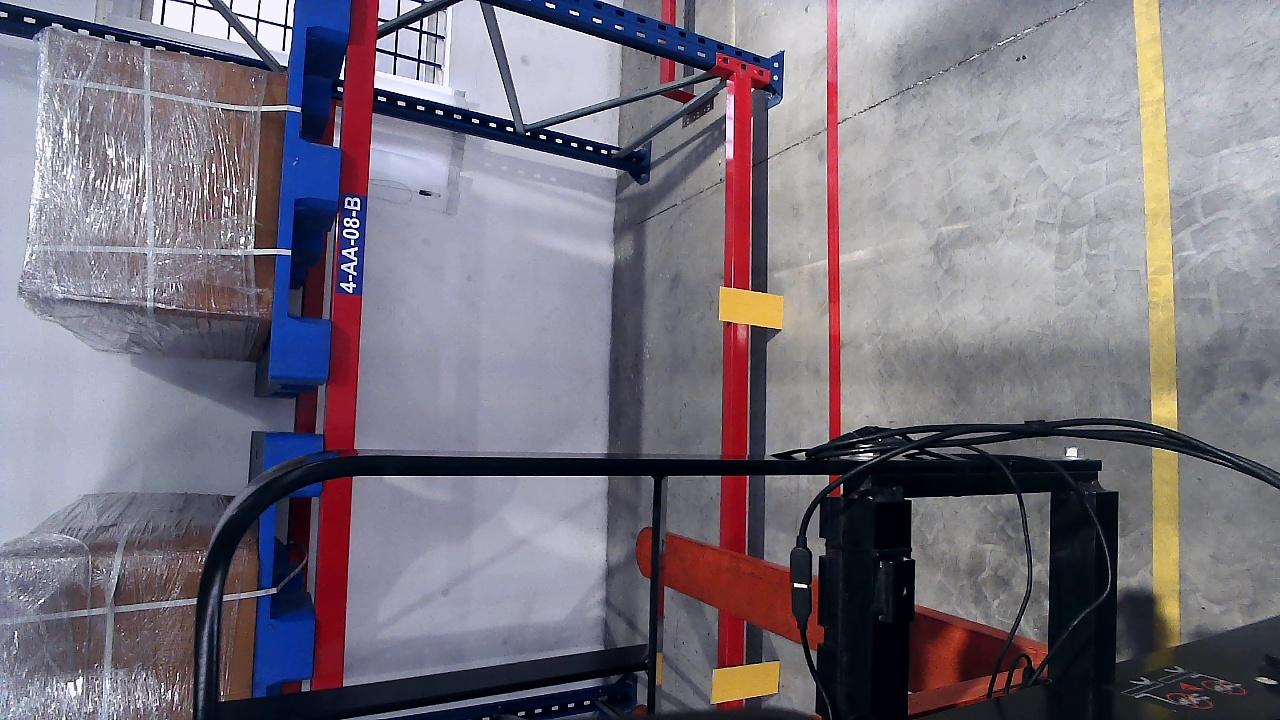h_rack: (343, 0, 378, 454), (727, 72, 758, 456)
orange_strip: (710, 662, 780, 703), (719, 287, 784, 329)
red_line: (822, 84, 844, 421)
yellow_line: (1134, 0, 1180, 429), (1150, 448, 1182, 651)
